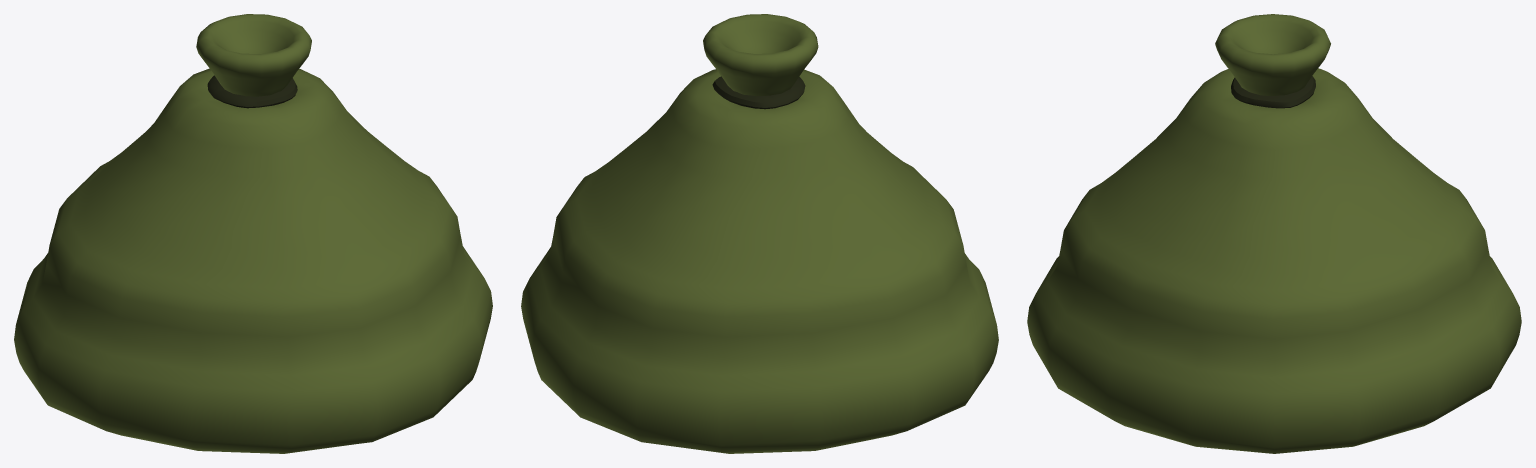
Rendered from BolsaV_03.fbx.
3 views of the same model, side by side, from view 1: azimuth 30°, elevation 25°; view 2: azimuth 150°, elevation 25°; view 3: azimuth 270°, elevation 25° (orthographic).
Visible parts, largest first — view 1: BolsaV_03; view 2: BolsaV_03; view 3: BolsaV_03.
Boxes of the visible parts, bbox=[...] form: BolsaV_03: bbox=[14, 14, 492, 453]; BolsaV_03: bbox=[521, 14, 998, 453]; BolsaV_03: bbox=[1027, 14, 1521, 453].
Bounding box in the file's own units: 91.9 × 73.36 × 91.9.
